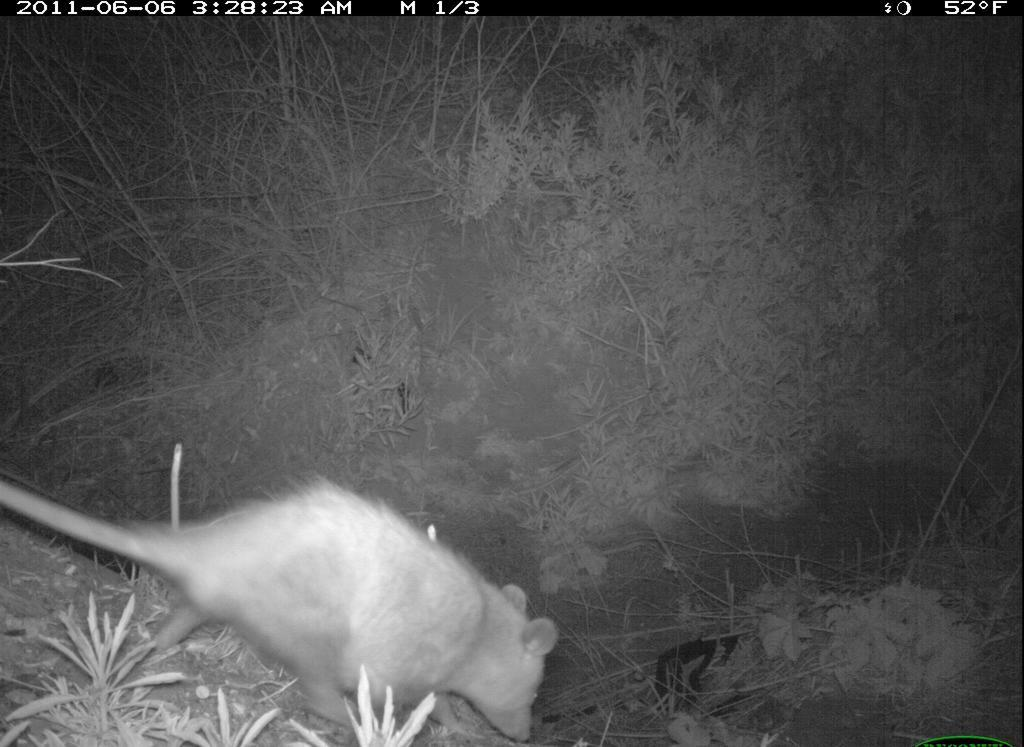opossum: (2, 470, 564, 740)
